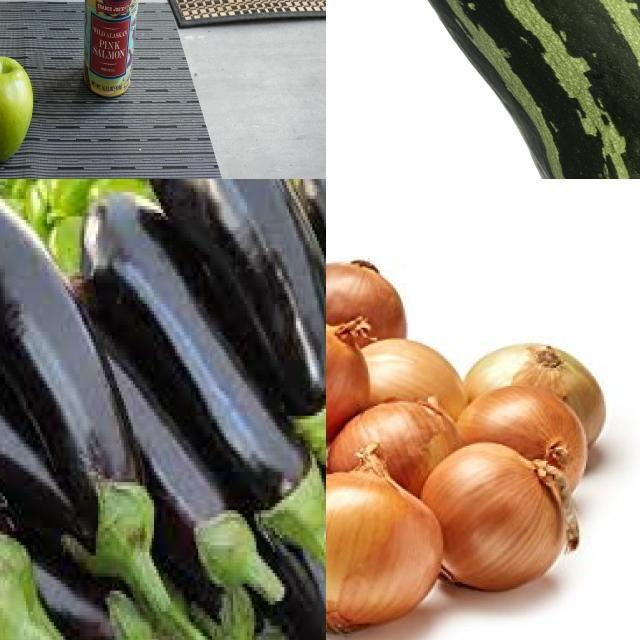eggplant: (78, 190, 318, 522), (1, 180, 145, 563)
onion: (327, 443, 443, 638), (424, 445, 568, 599), (465, 342, 607, 458), (460, 384, 592, 506), (327, 398, 462, 495), (327, 264, 408, 349), (327, 312, 370, 446)
zucchini: (327, 1, 640, 180)
